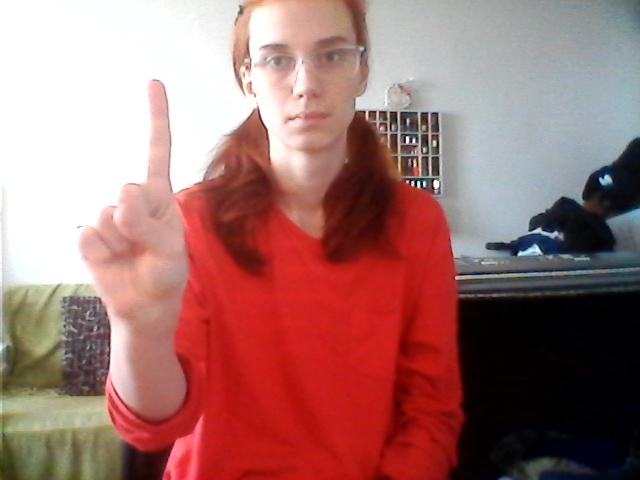i: (66, 74, 206, 312)
